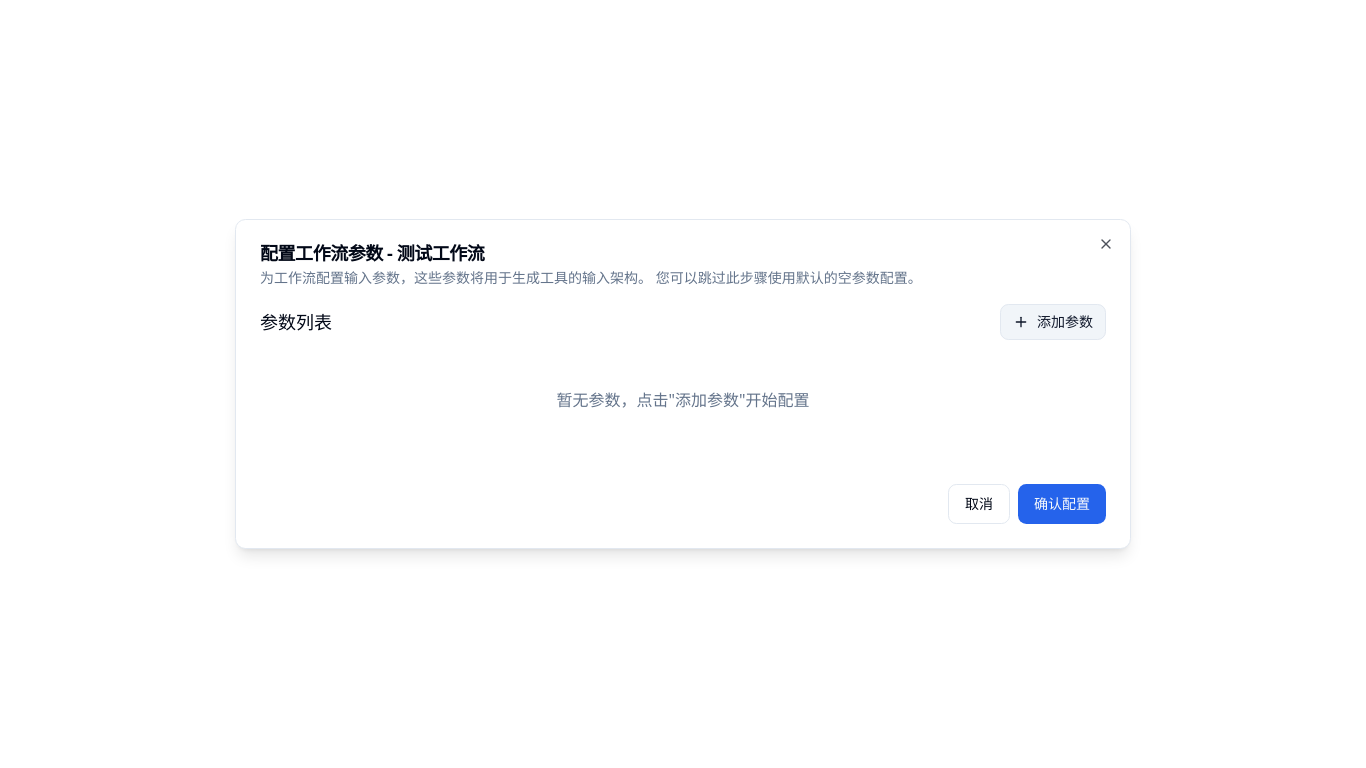
Scenario: WorkflowParameterConfigDialog › 应该验证字段名格式
Click the button "添加参数". click: (1053, 322)
box: [1000,304,1106,340]
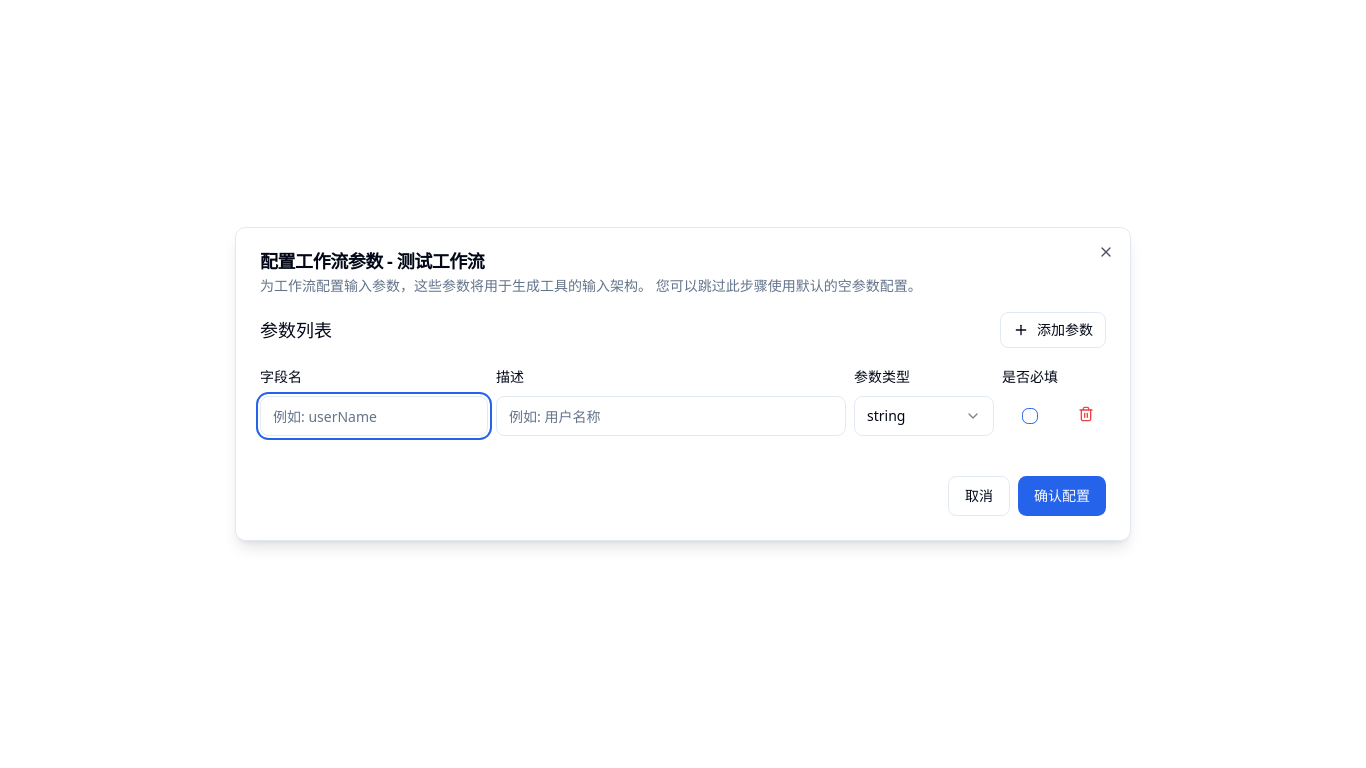
Note: 输入无效的字段名
Type "123invalid" into the field with placeholder "例如: userName". click: (374, 416)
box: [260,396,488,436]
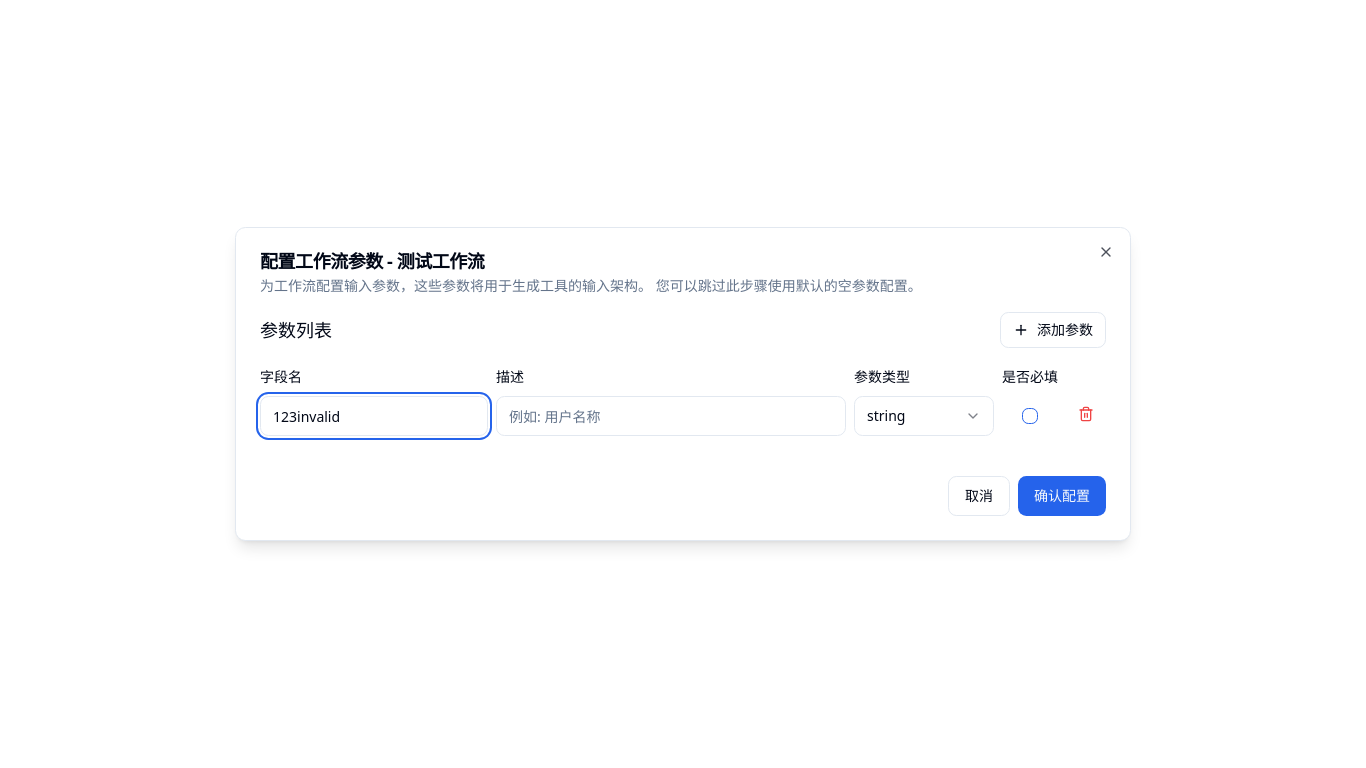
Click the button "确认配置". click: (1062, 496)
box: [1018,476,1106,516]
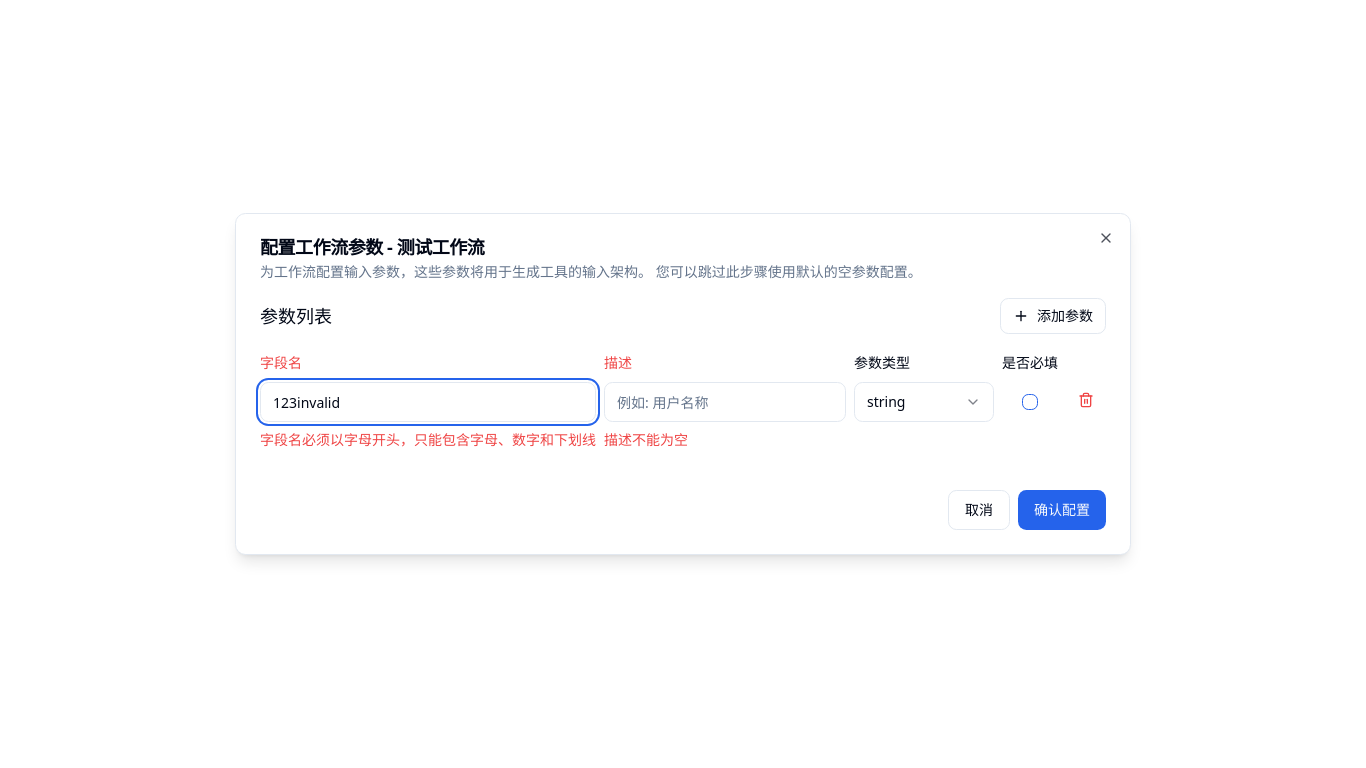
Check: the text "字段名必须以字母开头，只能包含字母、数字和下划线" is shown, box [260,430,596,450]
